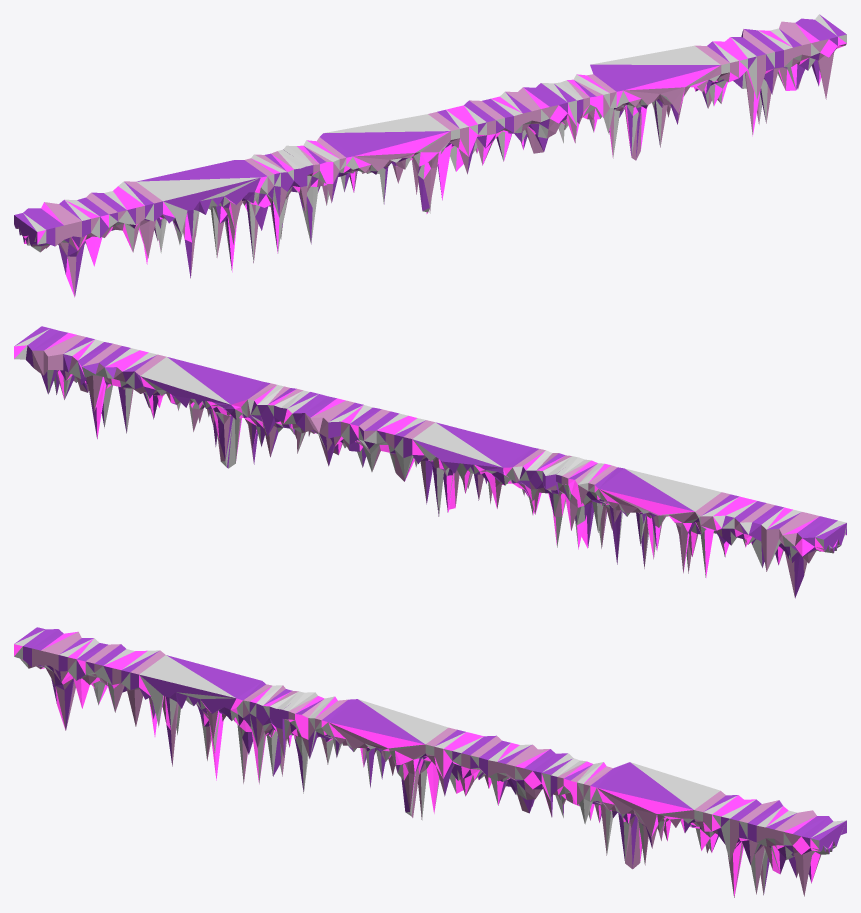
Rendered from floor.fbx.
3 renders of one model, top to bottom at view 1: azimuth 30°, elevation 25°; view 2: azimuth 150°, elevation 25°; view 3: azimuth 330°, elevation 25°, orthographic.
Visible parts, largest first — view 1: 平面.001; view 2: 平面.001; view 3: 平面.001.
Part boxes in pixels (box(x1,y1,x2,y2)): 平面.001: box(14, 14, 846, 297); 平面.001: box(14, 326, 846, 598); 平面.001: box(14, 627, 846, 897).
Size of the model in its own units: 1654 by 180 by 120.
